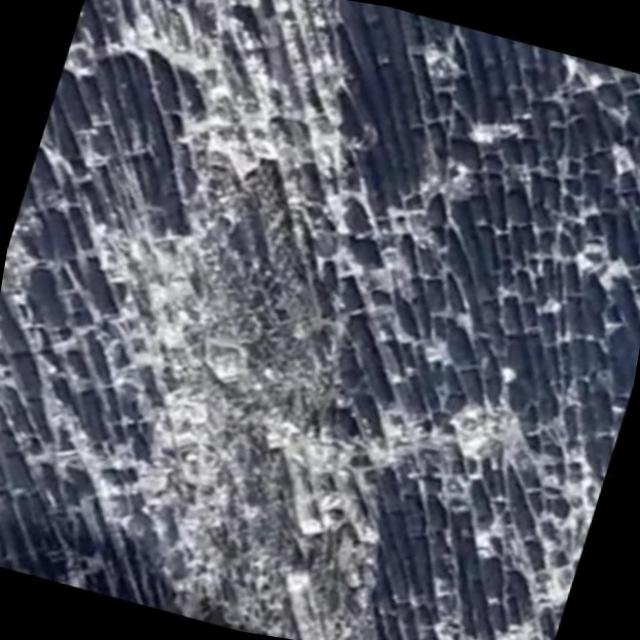faulty: (27, 12, 640, 616)
